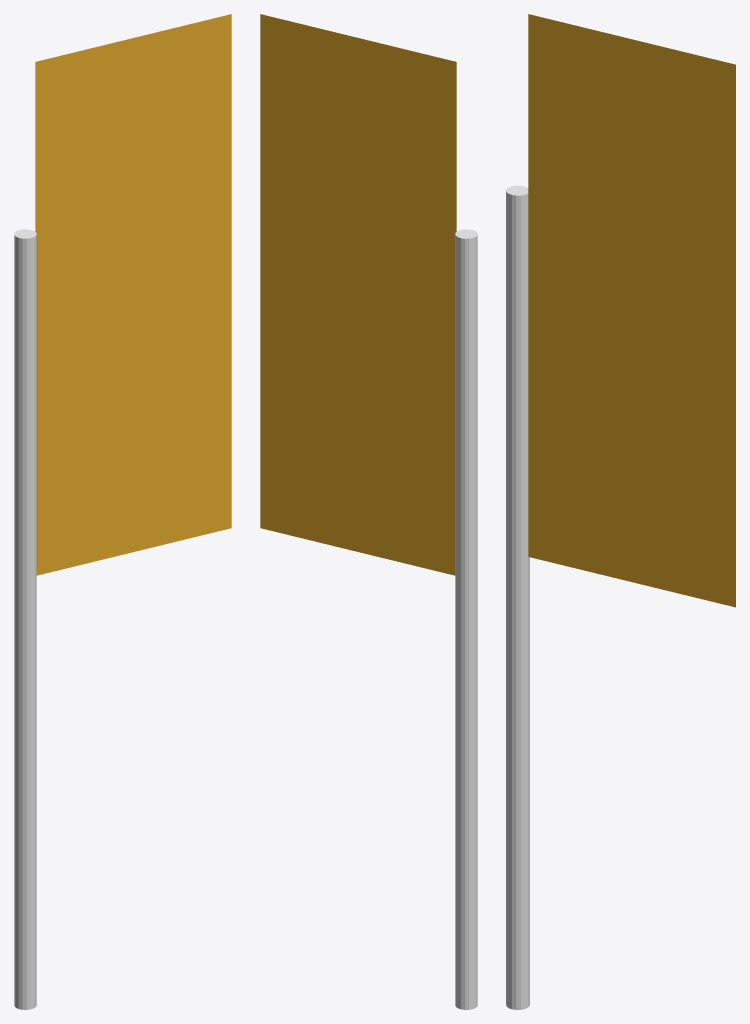
Rendered from flag.fbx.
3 views of the same model, side by side, from view 1: azimuth 30°, elevation 25°; view 2: azimuth 150°, elevation 25°; view 3: azimuth 330°, elevation 25° (orthographic). The views are drawn at different scales.
Parts seen in each view (by area): view 1: Flag, Pole; view 2: Flag, Pole; view 3: Flag, Pole.
Part boxes in pixels (x1,y1,x2,y2): Flag: [35, 14, 231, 575]; Pole: [14, 229, 36, 1009]; Flag: [260, 14, 456, 575]; Pole: [455, 229, 477, 1009]; Flag: [528, 14, 735, 607]; Pole: [506, 185, 529, 1009].
Size of the model in its own units: 0.44 by 1.83 by 0.04.
